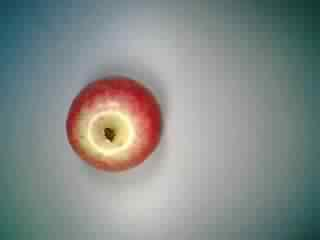apple: (60, 74, 164, 178)
